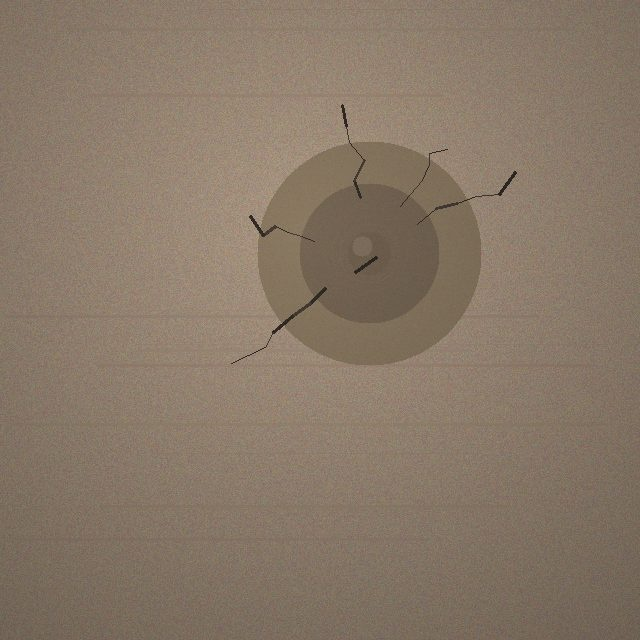crack: (257, 141, 481, 365)
